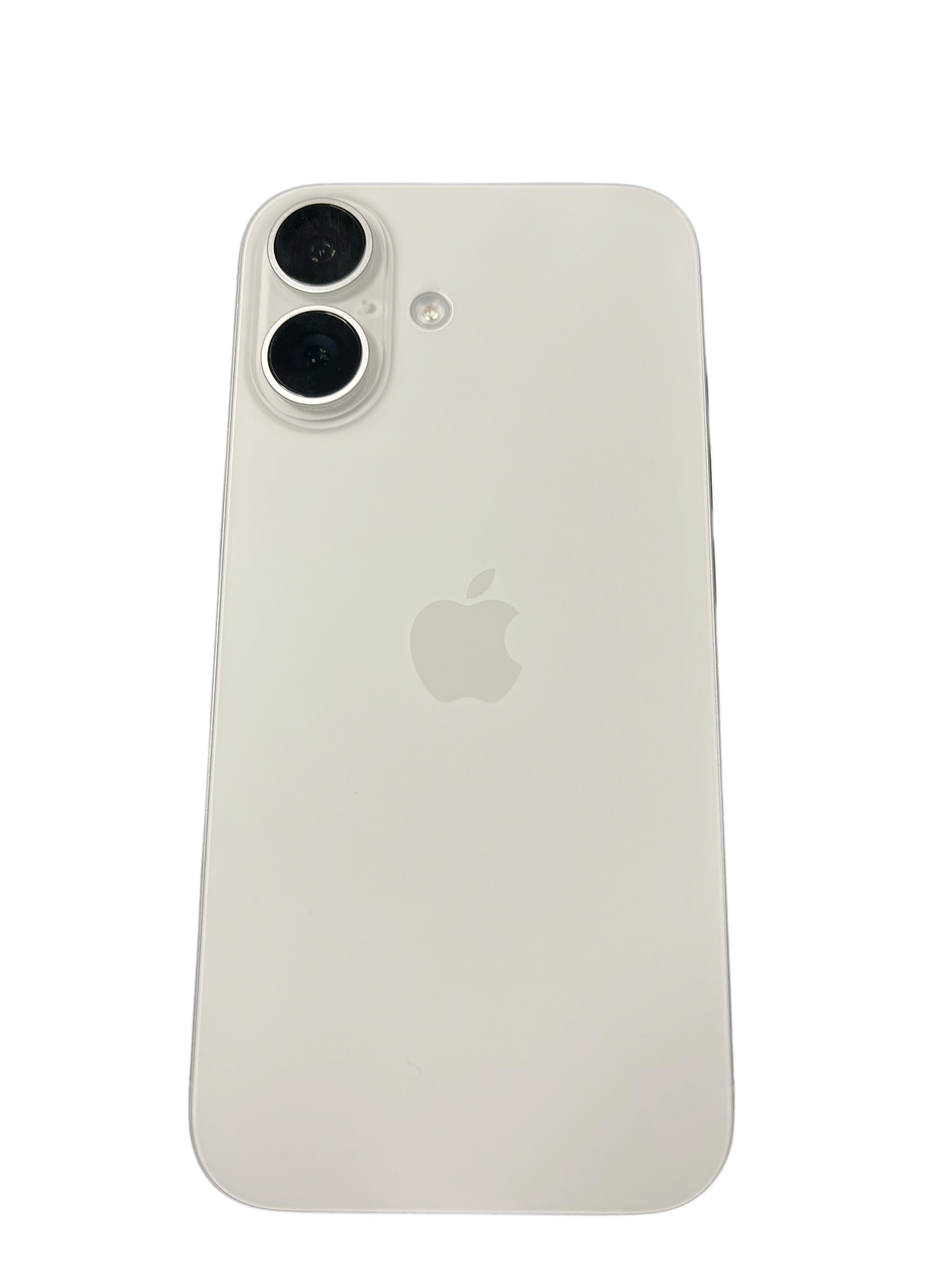iphone16_white: (182, 146, 810, 1250), (226, 187, 462, 445)
